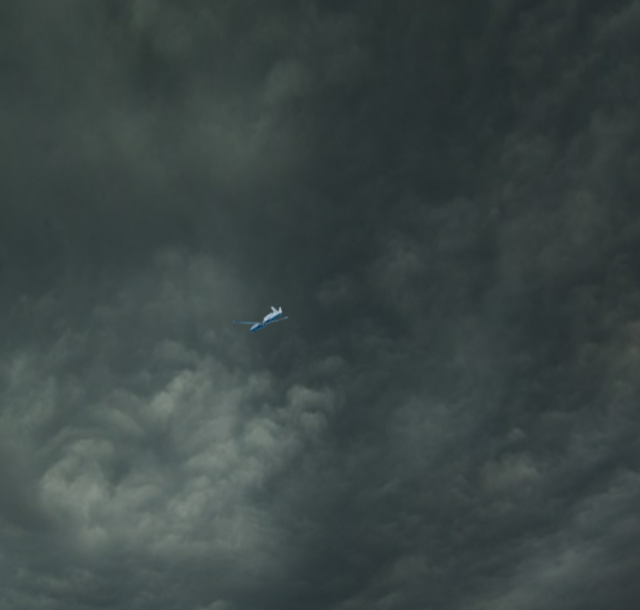military drone: (232, 305, 289, 332)
